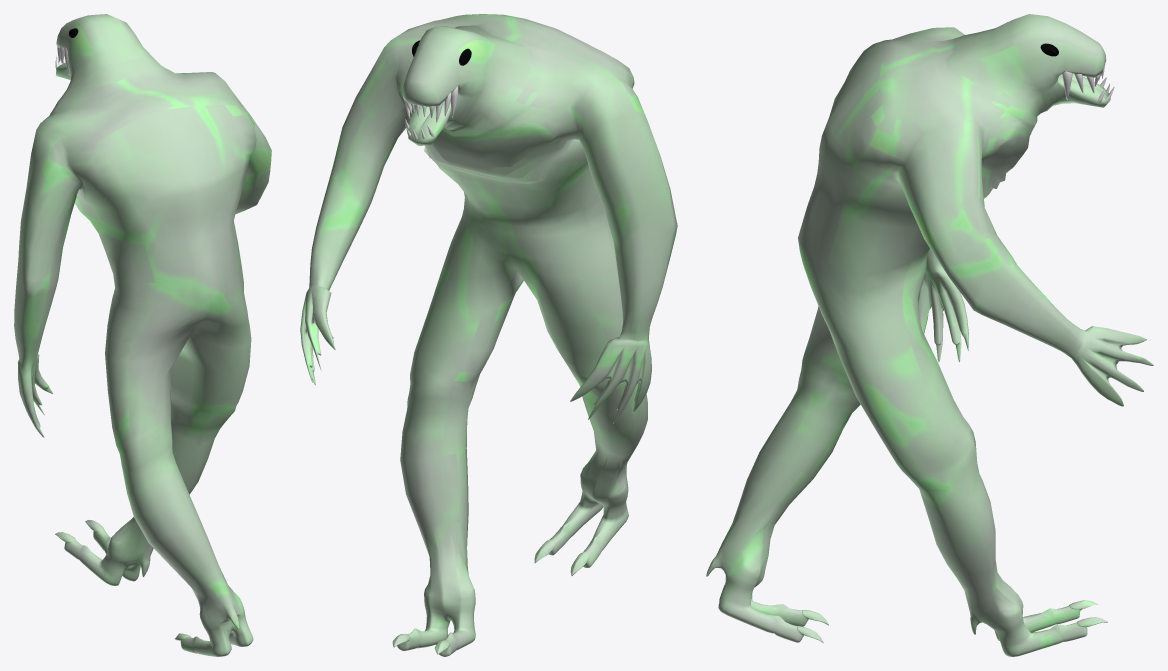
Rendered from Berserkerandar.0030.obj.
3 renders of one model, left to right at view 1: azimuth 30°, elevation 25°; view 2: azimuth 150°, elevation 25°; view 3: azimuth 270°, elevation 25°, orthographic. The views are drawn at different scales.
Visible parts, largest first — view 1: polySurface27; view 2: polySurface27; view 3: polySurface27.
Boxes of the visible parts, x1=… form: polySurface27: x1=14, y1=14, x2=271, y2=656; polySurface27: x1=300, y1=14, x2=677, y2=656; polySurface27: x1=706, y1=14, x2=1153, y2=656.
Bounding box in the file's own units: 11.55 × 22.89 × 14.85.
1 material, 1 textured.
